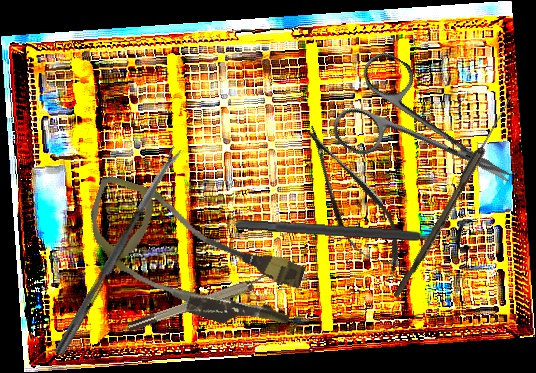Cannula: (71, 173, 314, 343)
Fixation Ring: (234, 205, 473, 255), (123, 264, 283, 335)
Iris Scissors: (325, 46, 535, 227)
Micro Scissor: (286, 114, 417, 284)
Surgical Spoon: (54, 146, 183, 357), (393, 94, 515, 301)
